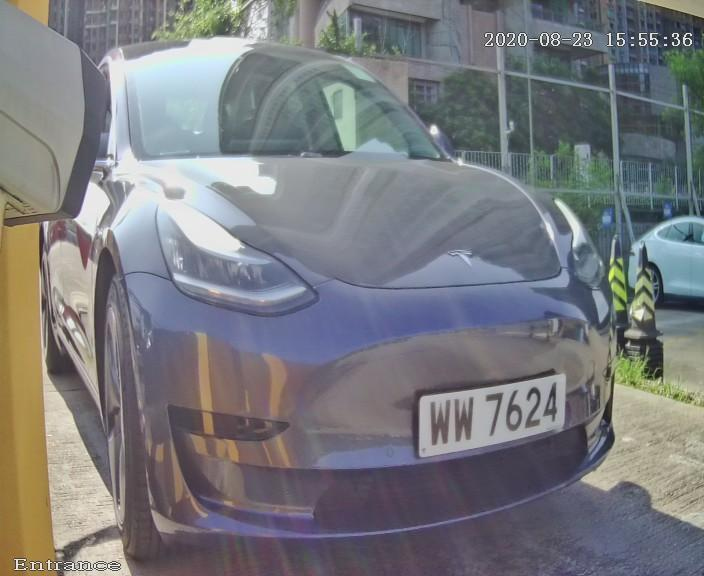License Plate: (390, 347, 599, 480)
